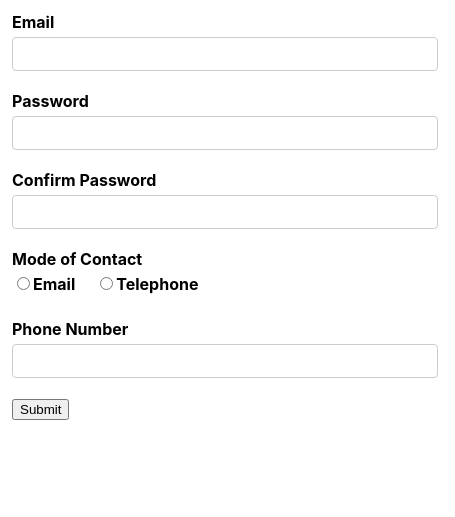
Test: test to check required validation on registration form
Step 1. Click the submit button → x=41, y=410, box [12,399,70,420]
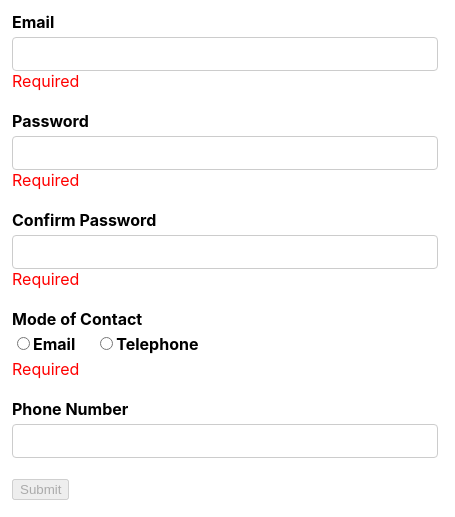
Result: the submit button is disabled at [12,479,70,500]
Result: the text with test id "emailError" reads "Required" at [12,71,79,91]
Result: the text with test id "passwordError" reads "Required" at [12,170,79,190]
